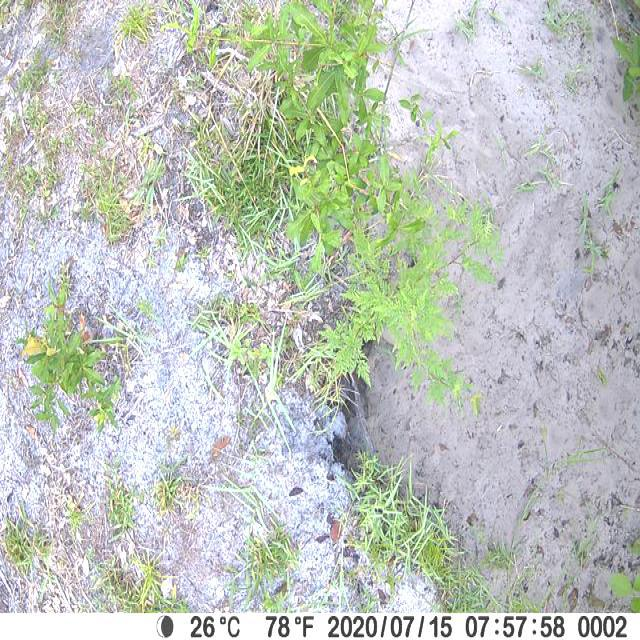tortoise: (330, 333, 372, 419)
